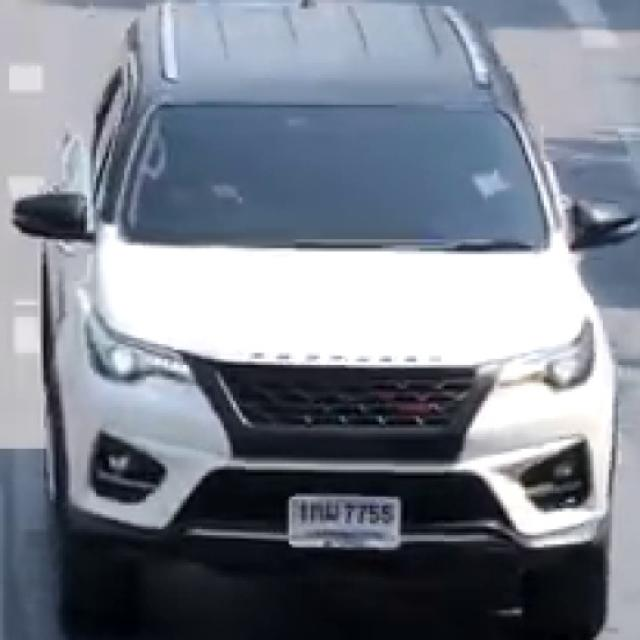plate: (289, 493, 402, 551)
